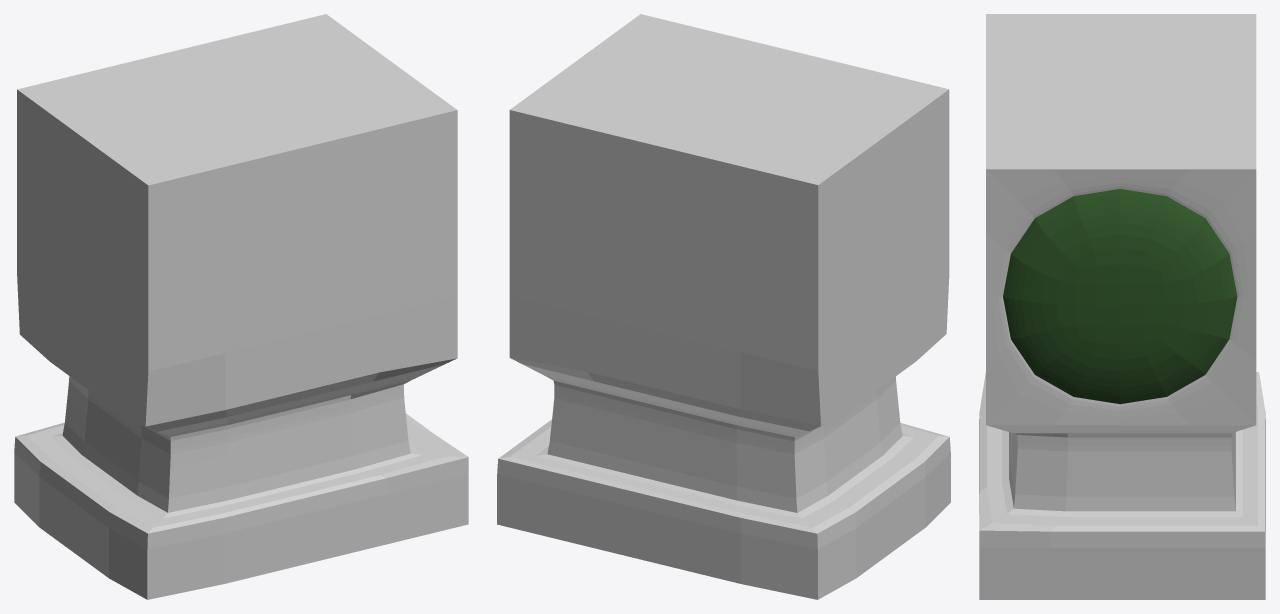
The model's file is CrtDisplay.glb.
3 renders of one model, left to right at view 1: azimuth 30°, elevation 25°; view 2: azimuth 150°, elevation 25°; view 3: azimuth 270°, elevation 25°, orthographic. The views are drawn at different scales.
Parts seen in each view (by area): view 1: Cube; view 2: Cube; view 3: Cube.
Part boxes in pixels (x1=…): Cube: x1=14, y1=14, x2=468, y2=599; Cube: x1=497, y1=14, x2=950, y2=599; Cube: x1=979, y1=14, x2=1265, y2=599.
Size of the model in its own units: 2.05 by 2.43 by 1.48.
